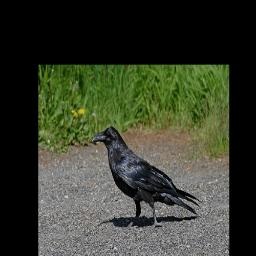Crow: (91, 126, 204, 232)
